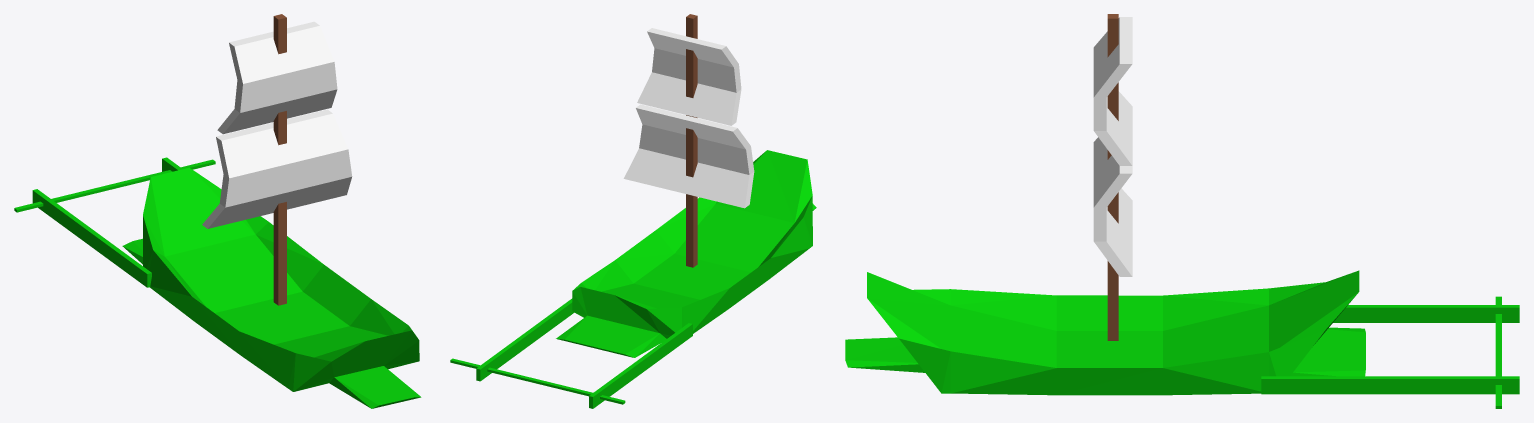
The model's file is titlePlayer.obj.
3 views of the same model, side by side, from view 1: azimuth 30°, elevation 25°; view 2: azimuth 150°, elevation 25°; view 3: azimuth 270°, elevation 25° (orthographic). The views are drawn at different scales.
Parts seen in each view (by area): view 1: Base; view 2: Base; view 3: Base.
Part boxes in pixels (x1,y1,x2,y2): Base: (14,14,421,408); Base: (450,14,816,408); Base: (845,14,1519,408).
Bounding box in the file's own units: 2 × 2.94 × 5.22.
5 materials, 5 textured.
